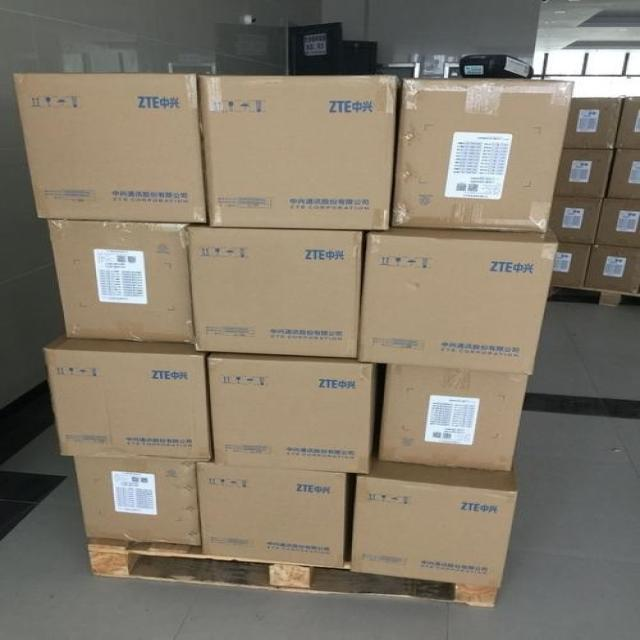Carton: (9, 72, 201, 222), (202, 77, 393, 225), (397, 80, 571, 226), (358, 238, 545, 370), (191, 229, 356, 358), (50, 350, 211, 459), (210, 360, 367, 469), (353, 479, 511, 581), (50, 223, 187, 337), (201, 466, 343, 566), (384, 366, 524, 463), (73, 456, 198, 541)
